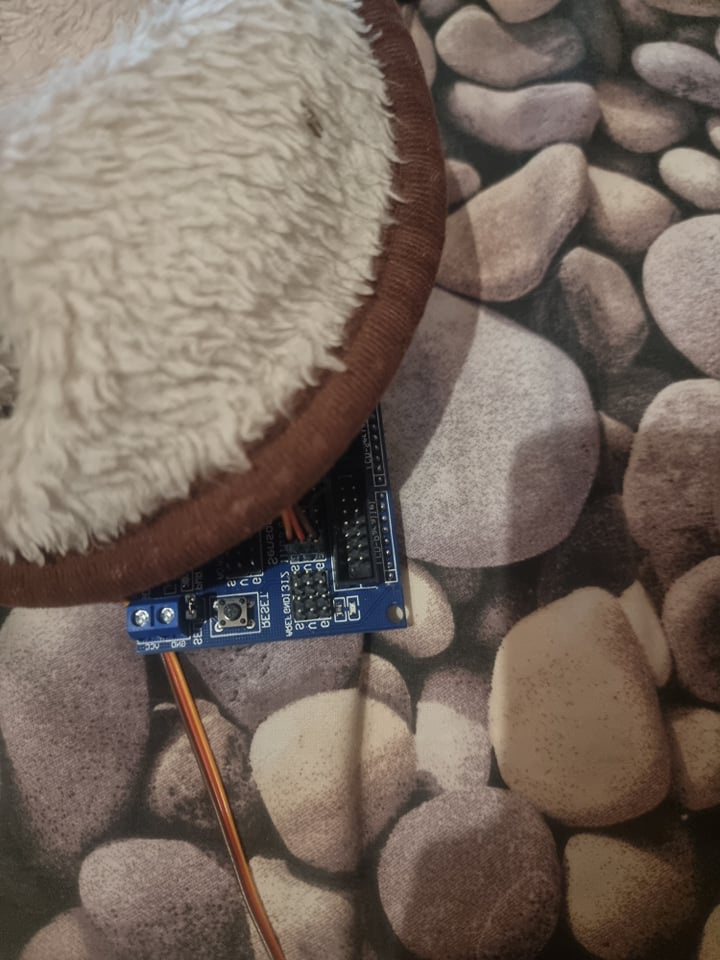5V EXPANSION: (125, 384, 413, 659)
